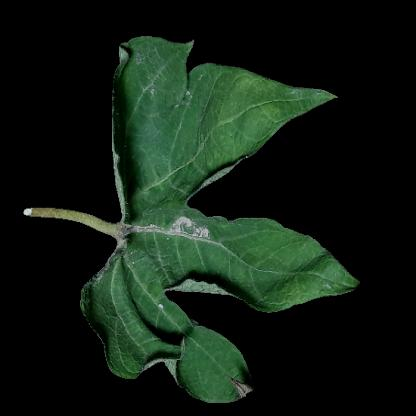curl_stage2: (104, 321, 212, 369), (170, 252, 241, 295), (113, 147, 151, 205), (172, 152, 249, 176)
healthy: (254, 234, 317, 304), (132, 84, 188, 144), (223, 73, 261, 145)
